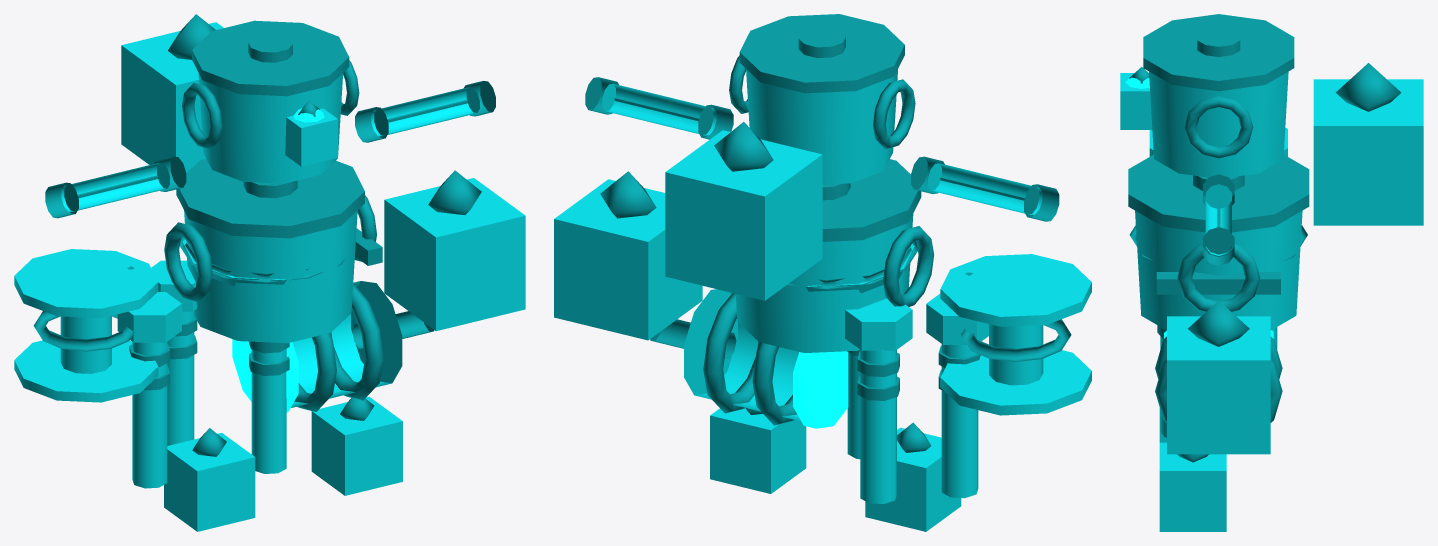
File: golem_051.glb
3 renders of one model, left to right at view 1: azimuth 30°, elevation 25°; view 2: azimuth 150°, elevation 25°; view 3: azimuth 270°, elevation 25°, orthographic. The views are drawn at different scales.
Parts seen in each view (by area): view 1: Body, Detail, Glow; view 2: Body, Detail, Glow; view 3: Body, Detail.
Boxes of the visible parts, bbox=[...] form: Body: bbox=[14, 22, 525, 531]; Detail: bbox=[33, 14, 495, 456]; Glow: bbox=[232, 108, 324, 412]; Body: bbox=[554, 69, 1091, 531]; Detail: bbox=[585, 14, 1071, 452]; Glow: bbox=[793, 351, 848, 428]; Body: bbox=[1120, 71, 1423, 531]; Detail: bbox=[1128, 14, 1401, 462].
Bounding box in the file's own units: 1.39 × 1.24 × 0.7653.
